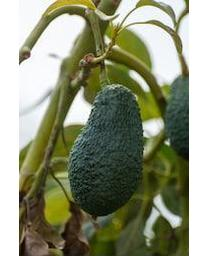avocado: (68, 84, 144, 216)
